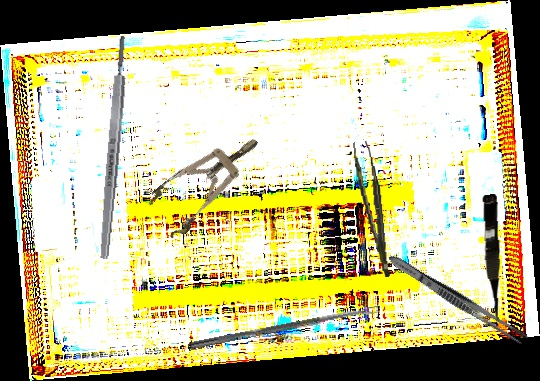Dressing Forceps: (385, 251, 530, 347)
Micro Scissor: (480, 194, 504, 325)
Scalpel Handle: (97, 35, 130, 260)
Speculum: (141, 120, 274, 243)
Surgical Spoon: (189, 305, 379, 351)
Tissue Forceps: (352, 140, 391, 279)
